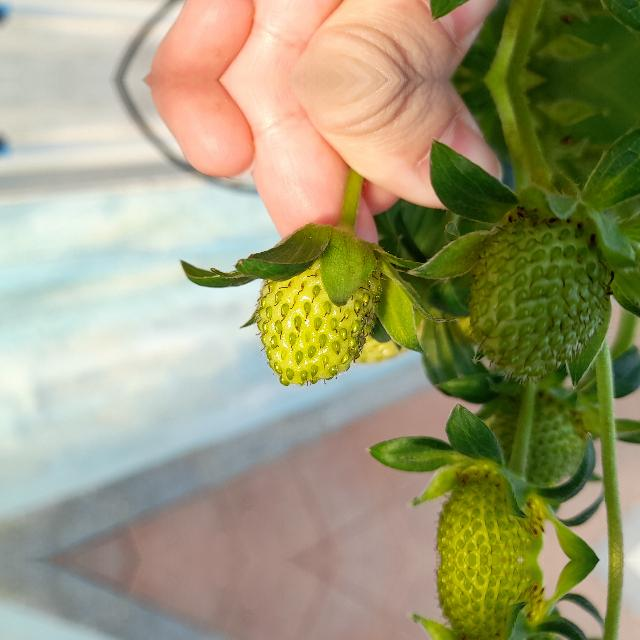Health_25: (255, 256, 382, 386)
